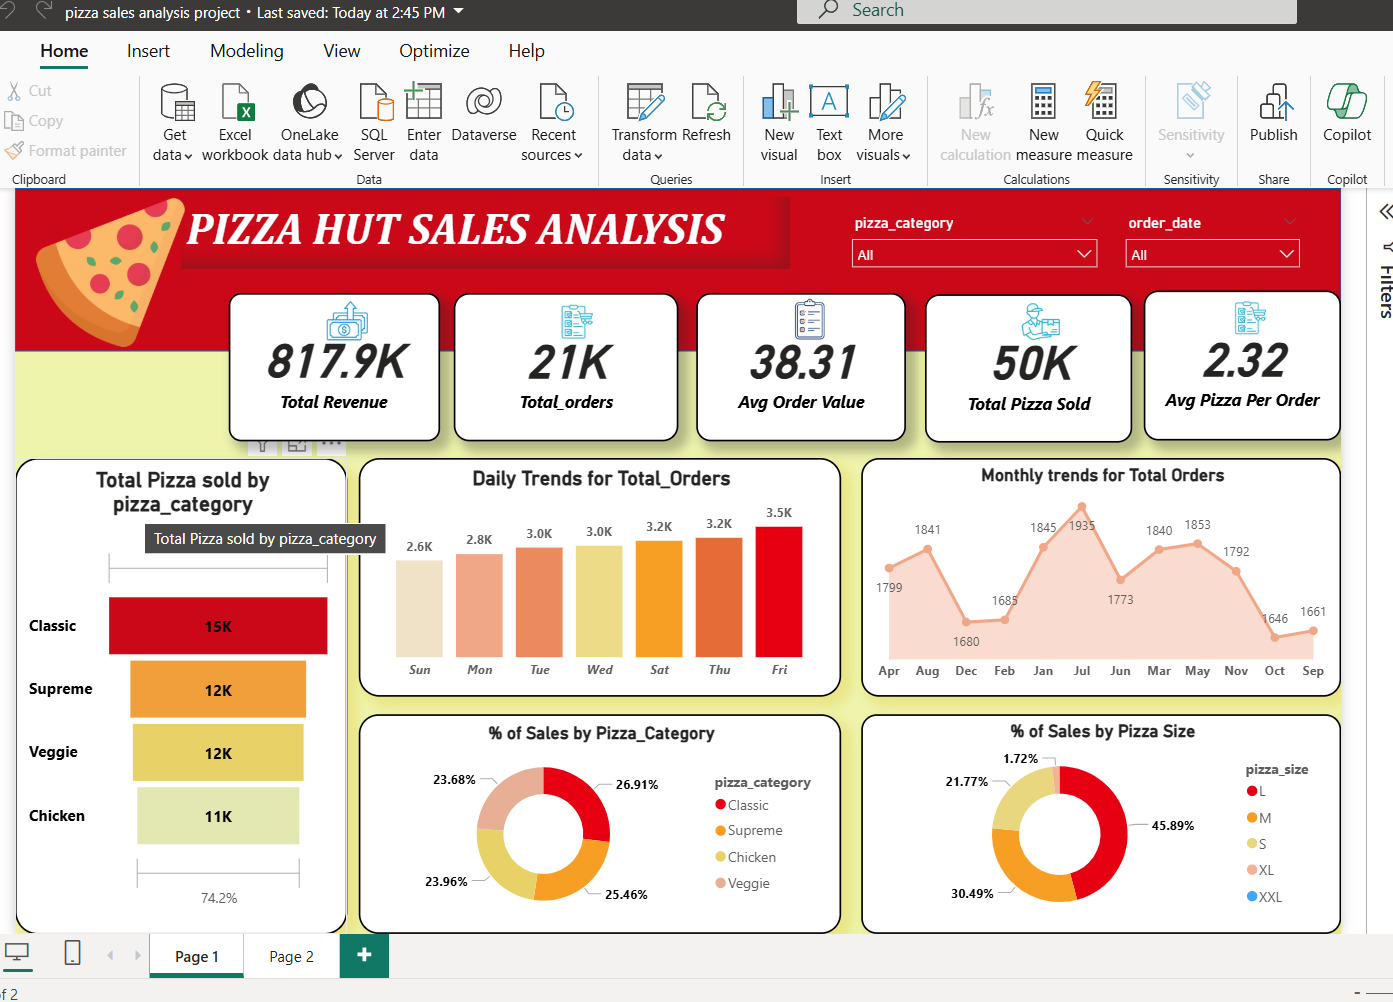

The page's visual inventory and layout, read from the dashboard file:
{"tool":"powerbi","page":{"name":"Page 1","canvas":[1280,720],"ordinal":0},"visuals":[{"type":"shape","box":[0,0,1280.3,157.8],"z":0},{"type":"funnel","title":"Total Pizza sold by pizza_category","fields":{"Category":["pizza_sales.pizza_category"],"Y":["Sum(pizza_sales.quantity)"]},"box":[0,260.6,320.9,459.7],"z":1000},{"type":"columnChart","title":"Daily Trends for Total_Orders ","fields":{"Category":["pizza_sales.daily"],"Y":["pizza_sales.Total_orders"]},"box":[331.8,260.6,465.7,230.4],"z":2000},{"type":"areaChart","title":"Monthly trends for Total Orders","fields":{"Category":["pizza_sales.monthly"],"Y":["pizza_sales.Total_orders"]},"box":[816.8,260.6,463.3,230.4],"z":3000},{"type":"donutChart","title":"% of Sales by Pizza_Category","fields":{"Category":["pizza_sales.pizza_category"],"Y":["pizza_sales.total revenue"]},"box":[331.8,507.9,465.7,212.3],"z":4000},{"type":"donutChart","title":"% of Sales by Pizza Size","fields":{"Category":["pizza_sales.pizza_size"],"Y":["pizza_sales.total revenue"]},"box":[816.8,507.9,463.3,212.3],"z":5000},{"type":"card","fields":{"Values":["pizza_sales.total revenue"]},"box":[206.3,101.3,203.9,143.6],"z":6000},{"type":"card","fields":{"Values":["pizza_sales.Total_orders"]},"box":[423.5,101.3,217.2,143.6],"z":7000},{"type":"card","fields":{"Values":["pizza_sales.Avg Order Value"]},"box":[657.5,101.3,202.7,143.6],"z":8000},{"type":"card","fields":{"Values":["pizza_sales.Total Pizza Sold"]},"box":[878.3,102.5,200.3,143.6],"z":9000},{"type":"card","fields":{"Values":["pizza_sales.Avg Pizza Per Order"]},"box":[1089.4,98.9,190.6,144.8],"z":10000},{"type":"slicer","fields":{"Values":["pizza_sales.pizza_category"]},"box":[797.5,20.5,257,57.9],"z":11000},{"type":"slicer","fields":{"Values":["pizza_sales.order_date"]},"box":[1061.7,20.5,188.2,57.9],"z":12000},{"type":"textbox","box":[160.5,8.4,587.5,70],"z":13000},{"type":"image","box":[12.1,0,160.5,162.9],"z":14000},{"type":"image","box":[293.2,98.9,55.5,59.1],"z":15000},{"type":"image","box":[521.2,107.4,43.4,43.4],"z":16000},{"type":"image","box":[737.1,101.3,60.3,50.7],"z":17000},{"type":"image","box":[966.4,103.8,47.1,50.7],"z":18000},{"type":"image","box":[1171.5,100.1,42.2,50.7],"z":19000}]}

Visuals, with their boxes in screenshot pixels (x1, y1, x2, y2):
shape: [11,185,1336,348]
"Total Pizza sold by pizza_category" funnel: [11,455,343,931]
"Daily Trends for Total_Orders " columnChart: [354,455,836,693]
"Monthly trends for Total Orders" areaChart: [856,455,1336,693]
"% of Sales by Pizza_Category" donutChart: [354,711,836,931]
"% of Sales by Pizza Size" donutChart: [856,711,1336,931]
card - pizza_sales.total revenue: [224,290,436,439]
card - pizza_sales.Total_orders: [449,290,674,439]
card - pizza_sales.Avg Order Value: [692,290,901,439]
card - pizza_sales.Total Pizza Sold: [920,291,1127,440]
card - pizza_sales.Avg Pizza Per Order: [1139,287,1336,437]
slicer - pizza_sales.pizza_category: [836,206,1102,266]
slicer - pizza_sales.order_date: [1110,206,1305,266]
textbox: [177,194,785,266]
image: [23,185,190,354]
image: [314,287,372,349]
image: [550,296,595,341]
image: [774,290,836,342]
image: [1011,292,1060,345]
image: [1224,289,1267,341]
